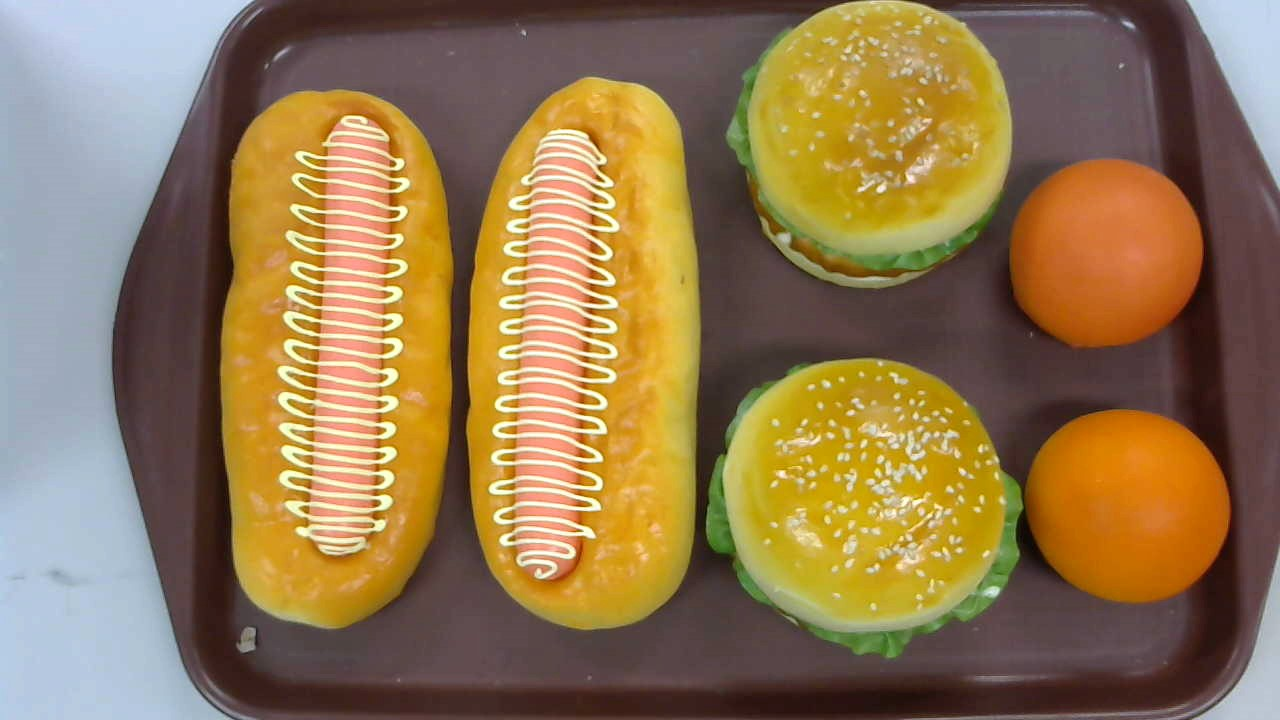bun: (1023, 408, 1231, 602), (1010, 157, 1203, 348)
hamburger: (706, 357, 1023, 658), (725, 1, 1011, 288)
hot dog: (466, 77, 701, 629), (218, 89, 452, 629)
